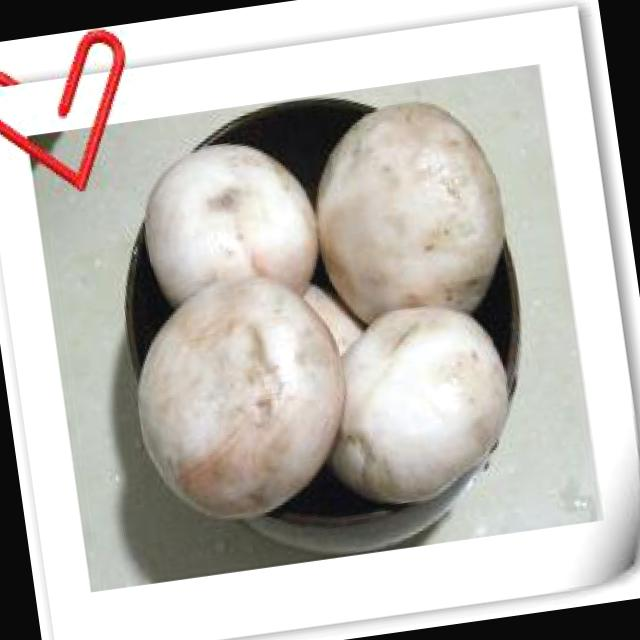Agaricus bisporus: (123, 270, 372, 533), (298, 102, 518, 318), (320, 302, 524, 496), (132, 137, 326, 313)
